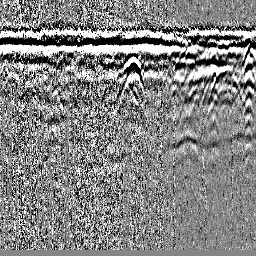cavity: (117, 55, 146, 94)
